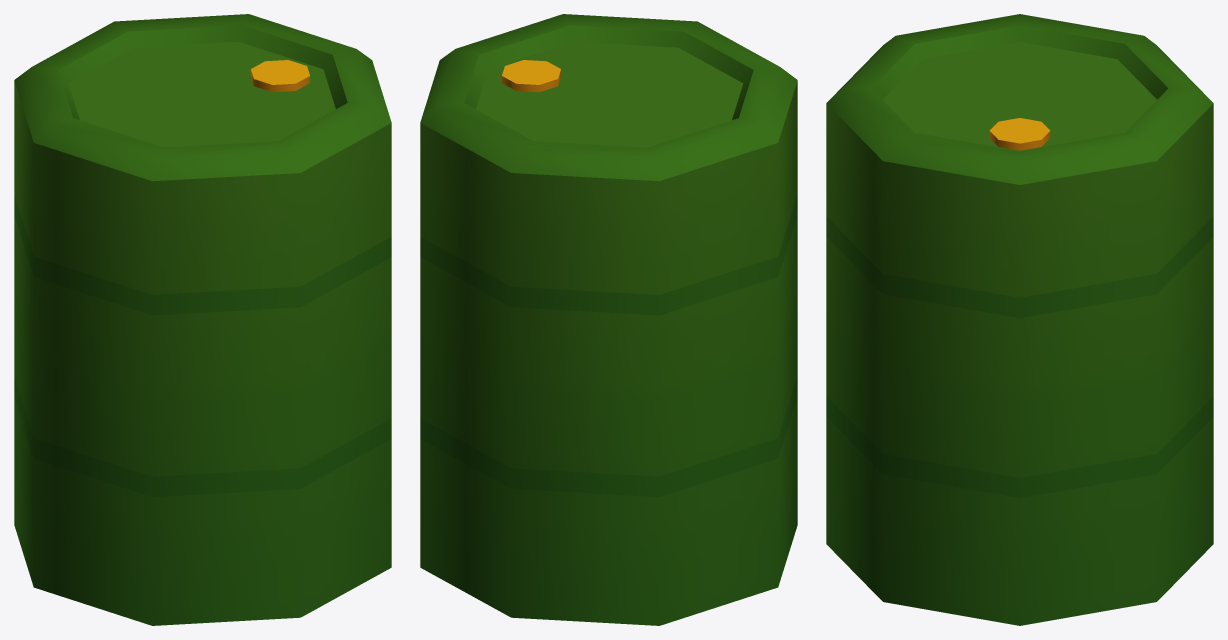
The model's file is Barrel 02.FBX.
The picture shows the model from 3 angles, left to right: view 1: azimuth 30°, elevation 25°; view 2: azimuth 150°, elevation 25°; view 3: azimuth 270°, elevation 25°; orthographic projection.
Parts seen in each view (by area): view 1: Barrel 02; view 2: Barrel 02; view 3: Barrel 02.
Boxes of the visible parts, bbox=[...] form: Barrel 02: bbox=[14, 14, 391, 625]; Barrel 02: bbox=[420, 14, 797, 625]; Barrel 02: bbox=[826, 14, 1213, 625].
Bounding box in the file's own units: 88.14 × 114 × 88.14.
Materials: 1 (1 with a texture image).
